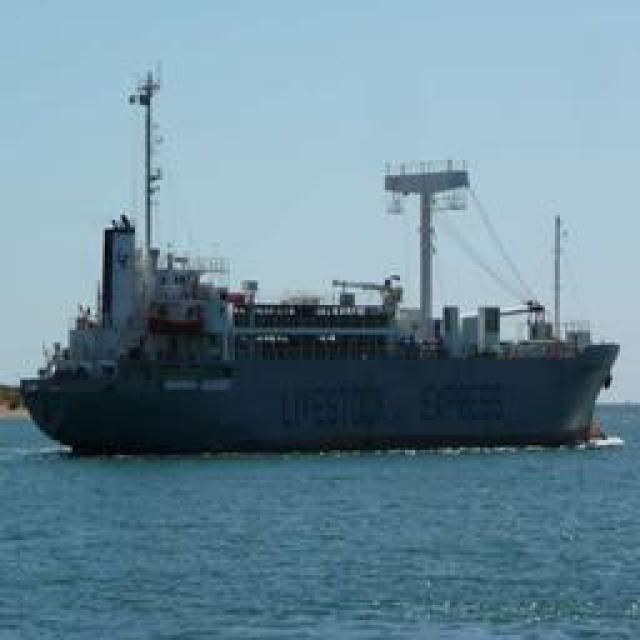Ship: (20, 151, 623, 449)
